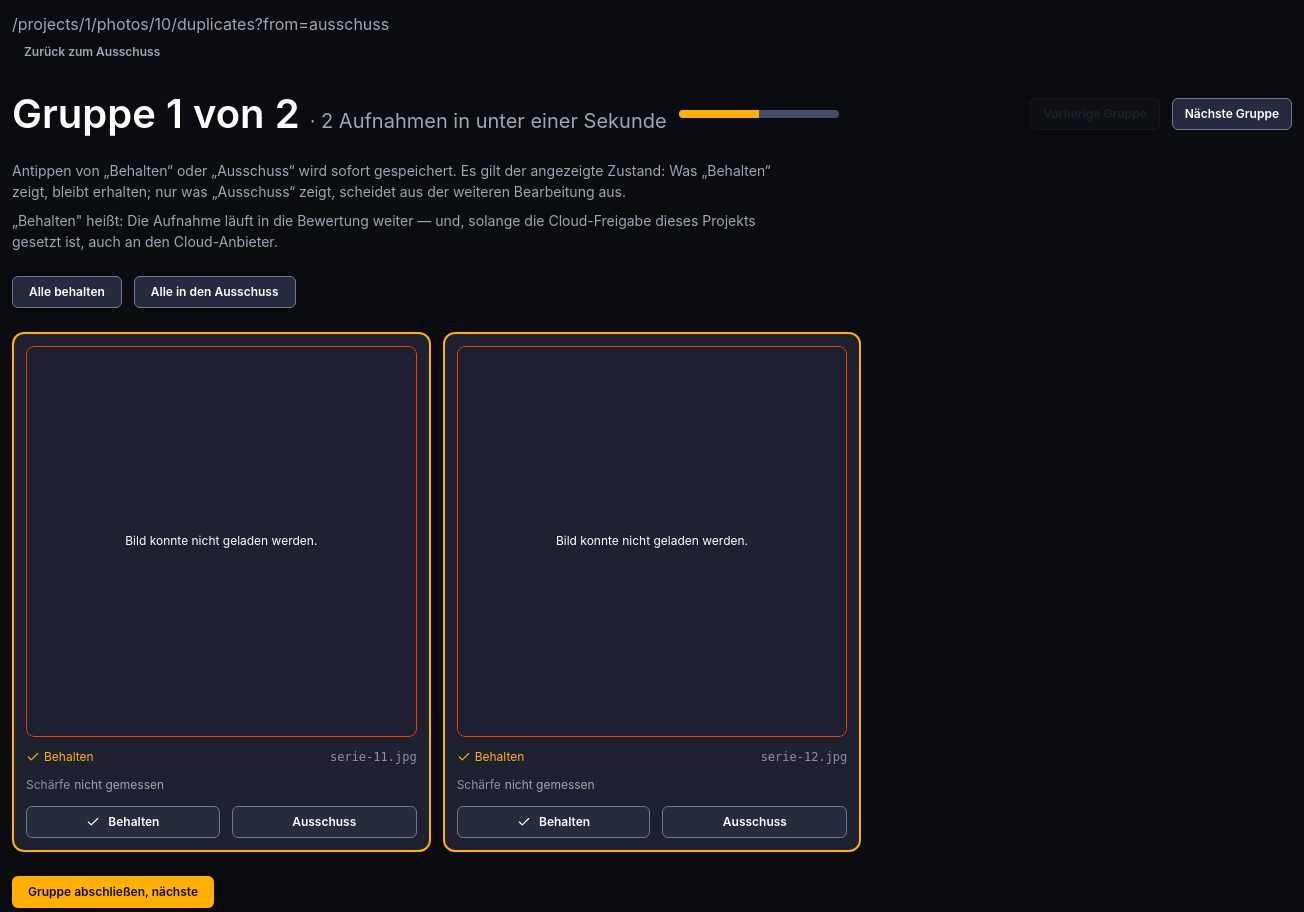
Scenario: DuplicateComparePage - die Gruppennavigation › navigiert per Push auf den Anker der Nachbargruppe (mit Rueckweg)
The image size is (1304, 912).
What coordinates should you click on to do the following:
click the button "Nächste Gruppe"
I would click on:
 (1232, 114)
Its box is [1172,98,1292,130].
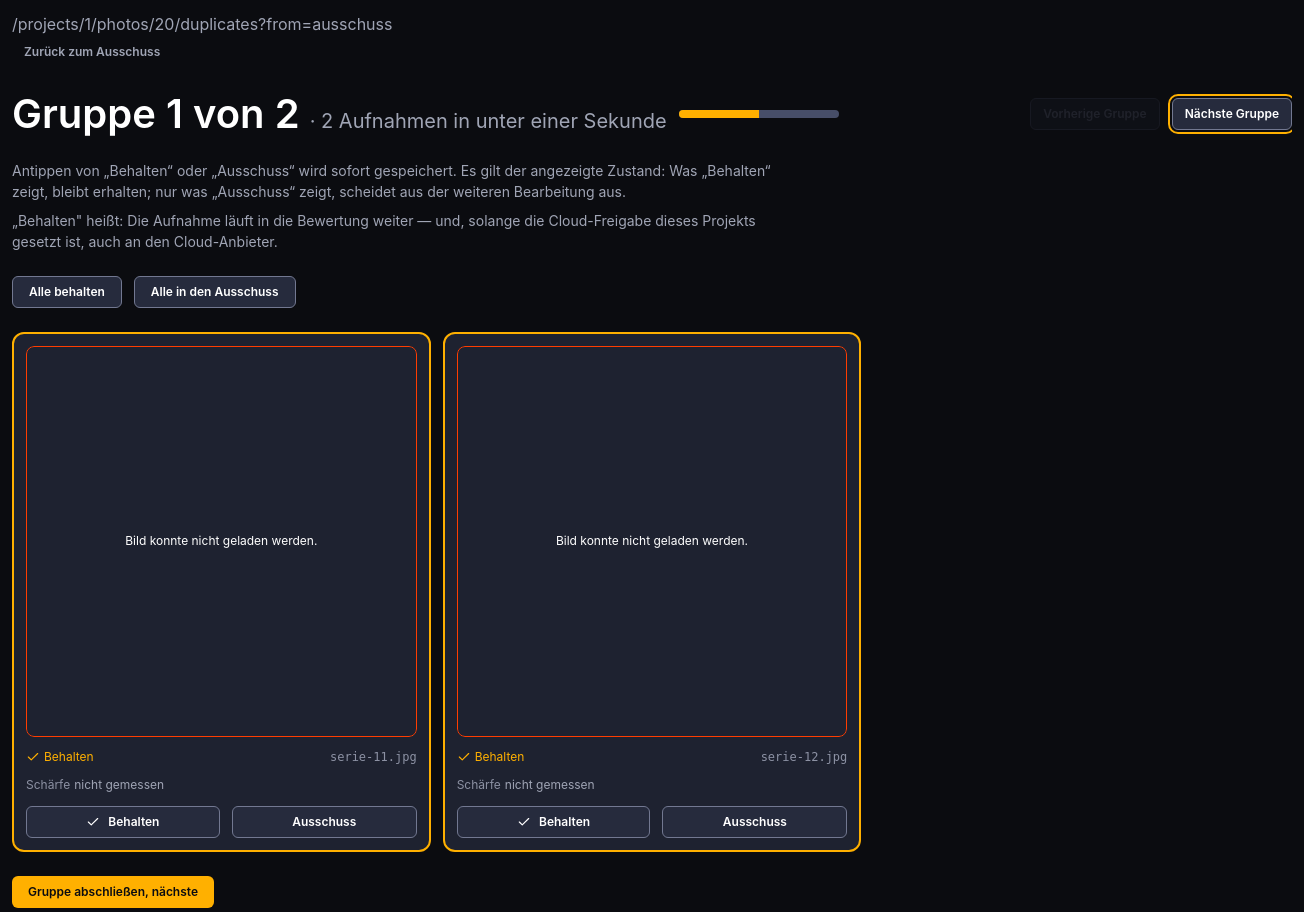
Now the text with test id "pfad" reads "/projects/1/photos/20/duplicates?from=ausschuss", box [12,14,392,34]
